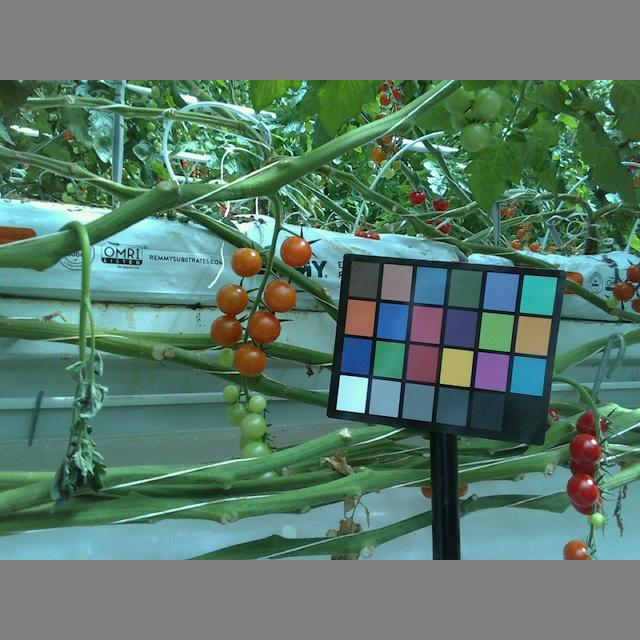green: (459, 121, 490, 154), (443, 86, 473, 116), (473, 91, 503, 119), (240, 413, 266, 439), (222, 382, 240, 405), (246, 394, 267, 411)
pink: (247, 308, 282, 344), (262, 278, 299, 312), (280, 233, 312, 270), (215, 283, 250, 316), (209, 314, 243, 347), (236, 343, 267, 378), (230, 245, 262, 276), (562, 537, 593, 560), (610, 280, 635, 301)
red: (567, 432, 602, 467), (568, 471, 599, 508)
